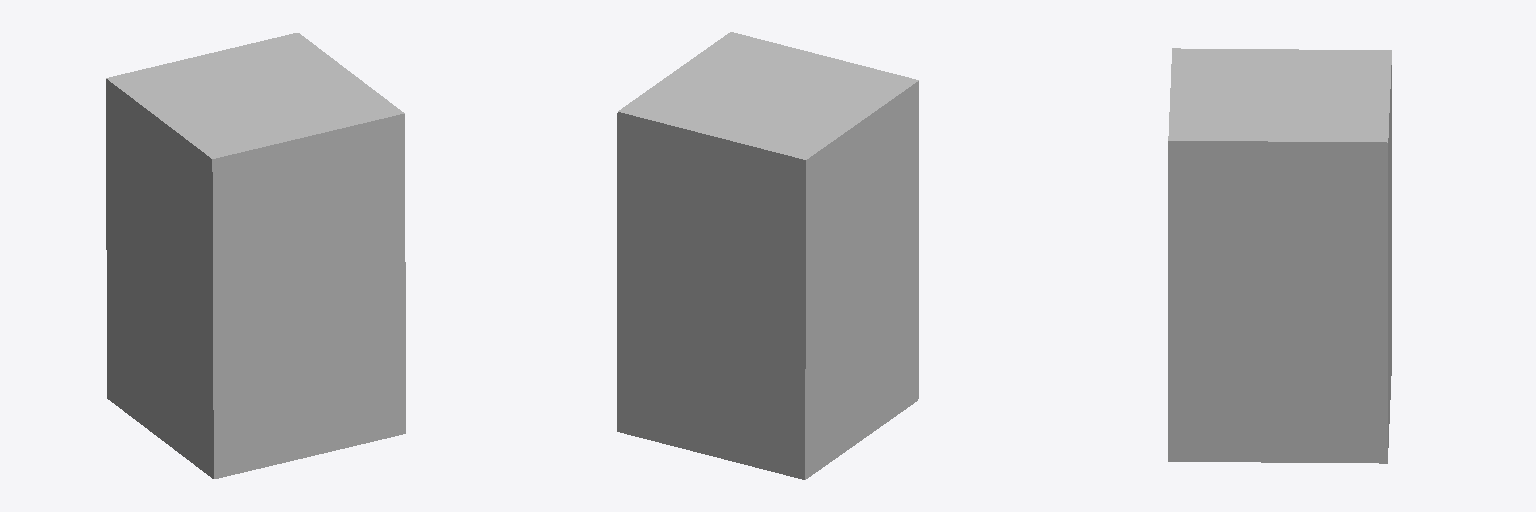
File: TillDemon_SeparateCage.obj
3 renders of one model, left to right at view 1: azimuth 30°, elevation 25°; view 2: azimuth 150°, elevation 25°; view 3: azimuth 270°, elevation 25°, orthographic.
Visible parts, largest first — view 1: Cube.001_Cube.004; view 2: Cube.001_Cube.004; view 3: Cube.001_Cube.004.
Boxes of the visible parts, x1,y1,x2,y2 form: Cube.001_Cube.004: [106, 33, 405, 478]; Cube.001_Cube.004: [617, 32, 918, 479]; Cube.001_Cube.004: [1168, 48, 1391, 463].
Size of the model in its own units: 1.04 by 1.65 by 1.04.